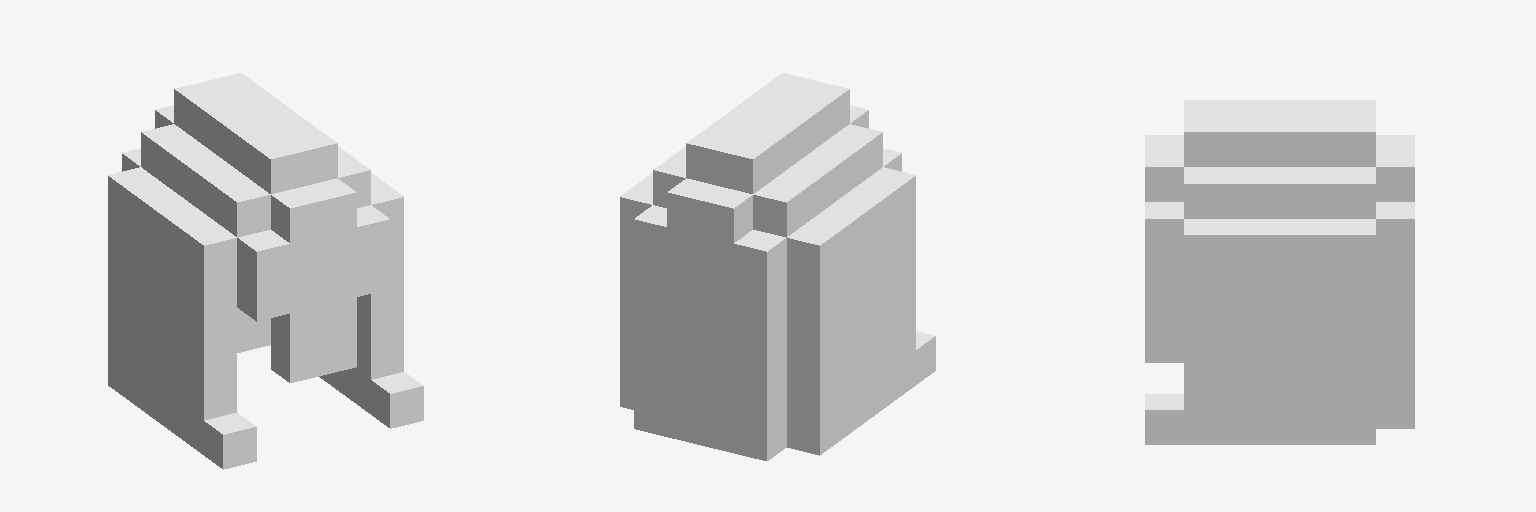
File: char-232-helm_hvy_3a_du.obj
3 views of the same model, side by side, from view 1: azimuth 30°, elevation 25°; view 2: azimuth 150°, elevation 25°; view 3: azimuth 270°, elevation 25° (orthographic).
Visible parts, largest first — view 1: helm_hvy_3a_du; view 2: helm_hvy_3a_du; view 3: helm_hvy_3a_du.
Boxes of the visible parts, x1,y1,x2,y2 form: helm_hvy_3a_du: [108, 73, 423, 469]; helm_hvy_3a_du: [620, 73, 935, 460]; helm_hvy_3a_du: [1145, 100, 1414, 444].
Bounding box in the file's own units: 0.6 × 0.8 × 0.7.